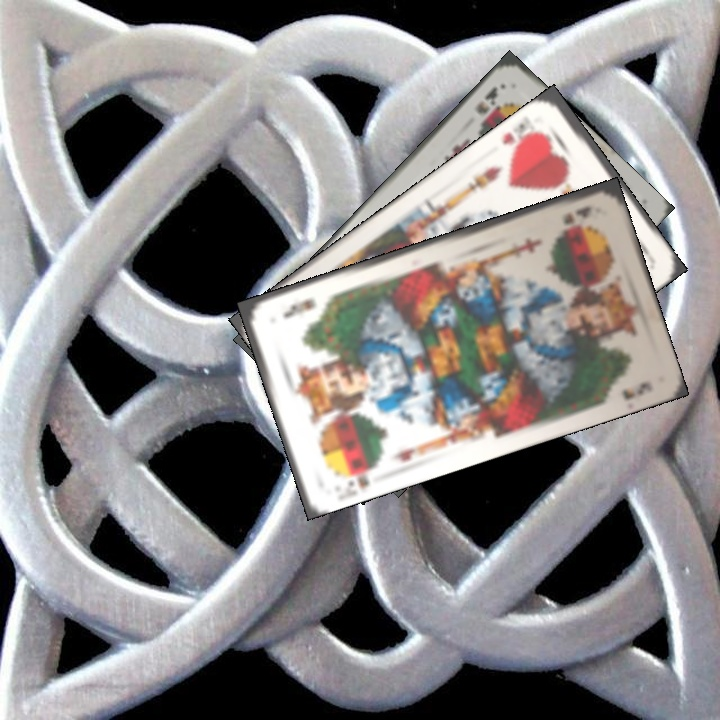HK: (498, 118, 544, 157)
SK: (331, 460, 379, 492), (471, 82, 502, 128), (559, 202, 595, 227)
